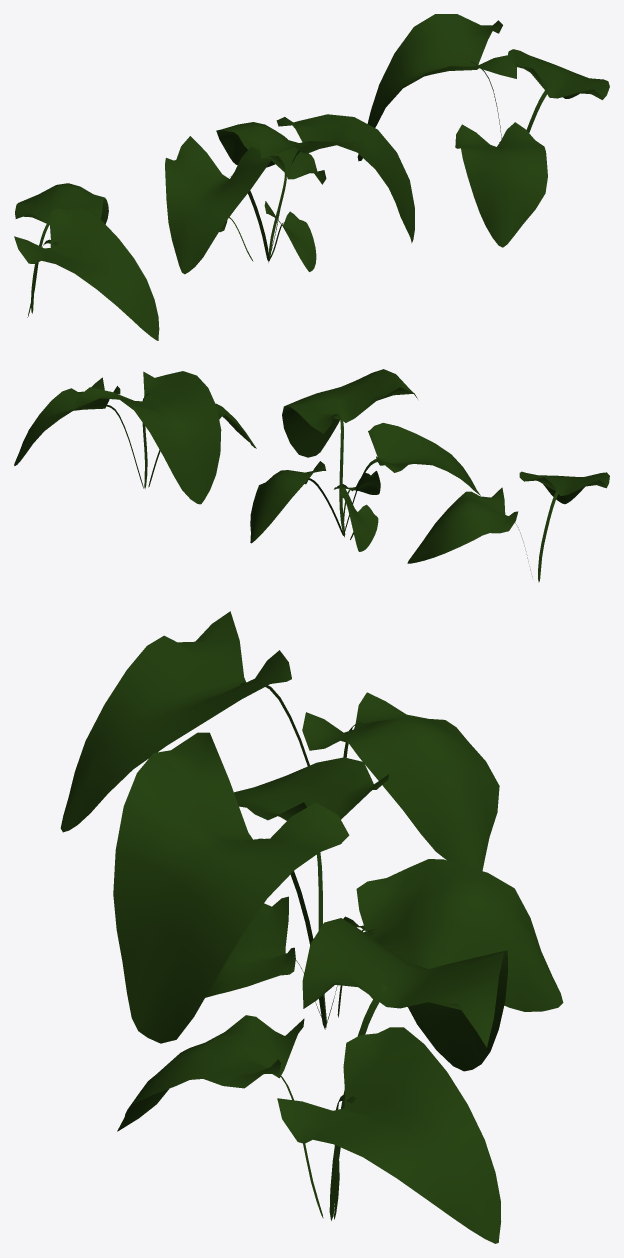
The model's file is nodaizu.fbx.
3 views of the same model, one above another, from view 1: azimuth 30°, elevation 25°; view 2: azimuth 150°, elevation 25°; view 3: azimuth 270°, elevation 25° (orthographic). The views are drawn at different scales.
Parts seen in each view (by area): view 1: polySurface6, polySurface19, polySurface4; view 2: polySurface6, polySurface19, polySurface4; view 3: polySurface6, polySurface19, polySurface4.
Boxes of the visible parts, left/top/right/bottom form: polySurface6: left=165, top=114, right=414, bottom=274; polySurface19: left=357, top=14, right=609, bottom=247; polySurface4: left=14, top=183, right=159, bottom=340; polySurface6: left=250, top=369, right=480, bottom=551; polySurface19: left=14, top=371, right=256, bottom=504; polySurface4: left=407, top=471, right=609, bottom=582; polySurface6: left=113, top=732, right=563, bottom=1043; polySurface19: left=117, top=918, right=507, bottom=1243; polySurface4: left=60, top=611, right=499, bottom=870.
Bounding box in the file's own units: 9.11 × 2.26 × 3.8.
